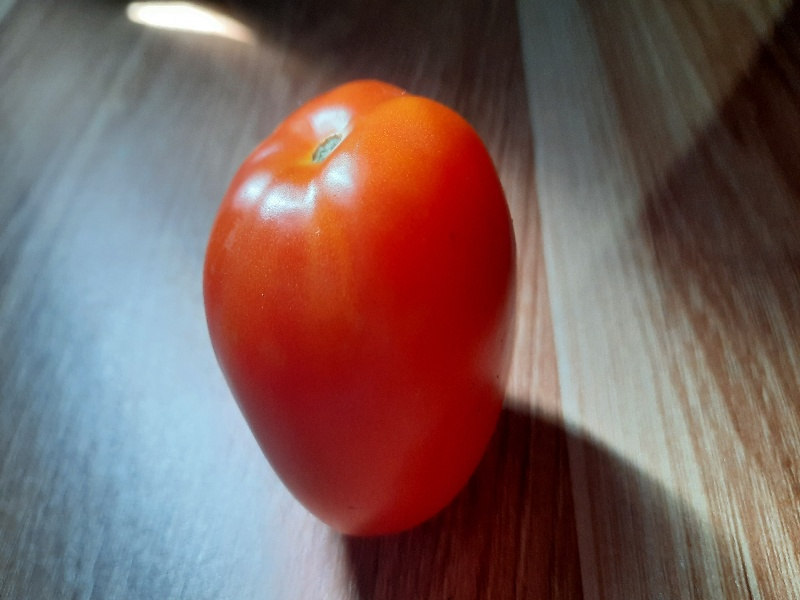vege: (196, 75, 525, 546)
